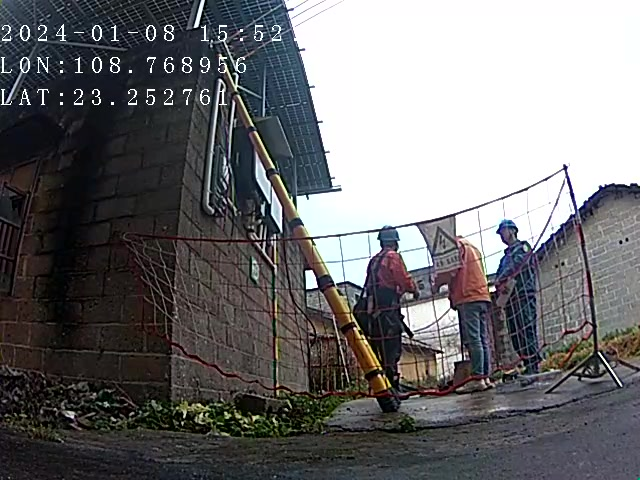halt: (379, 228, 404, 253), (499, 221, 523, 247)
